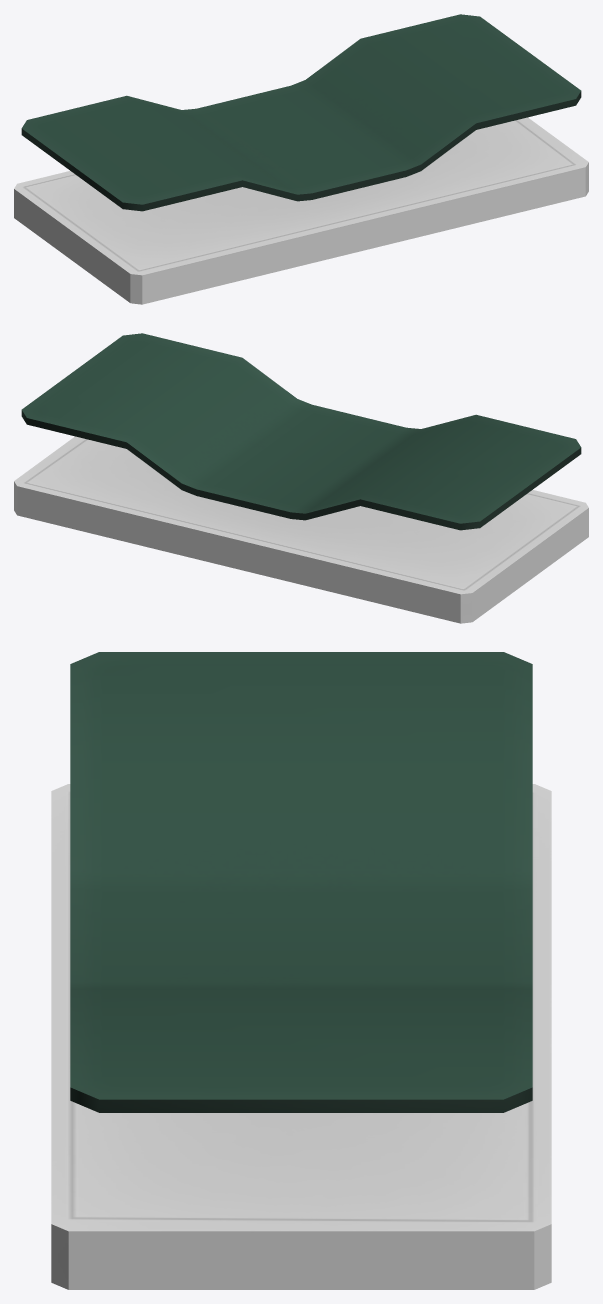
The model's file is Coffee_Table_1.FBX.
3 views of the same model, one above another, from view 1: azimuth 30°, elevation 25°; view 2: azimuth 150°, elevation 25°; view 3: azimuth 270°, elevation 25° (orthographic). The views are drawn at different scales.
Parts seen in each view (by area): view 1: Coffee_Table; view 2: Coffee_Table; view 3: Coffee_Table.
Part boxes in pixels (x1=…): Coffee_Table: x1=14, y1=14, x2=588, y2=304; Coffee_Table: x1=14, y1=333, x2=588, y2=623; Coffee_Table: x1=51, y1=652, x2=551, y2=1289.
Size of the model in its own units: 108 by 21.49 by 51.18.
